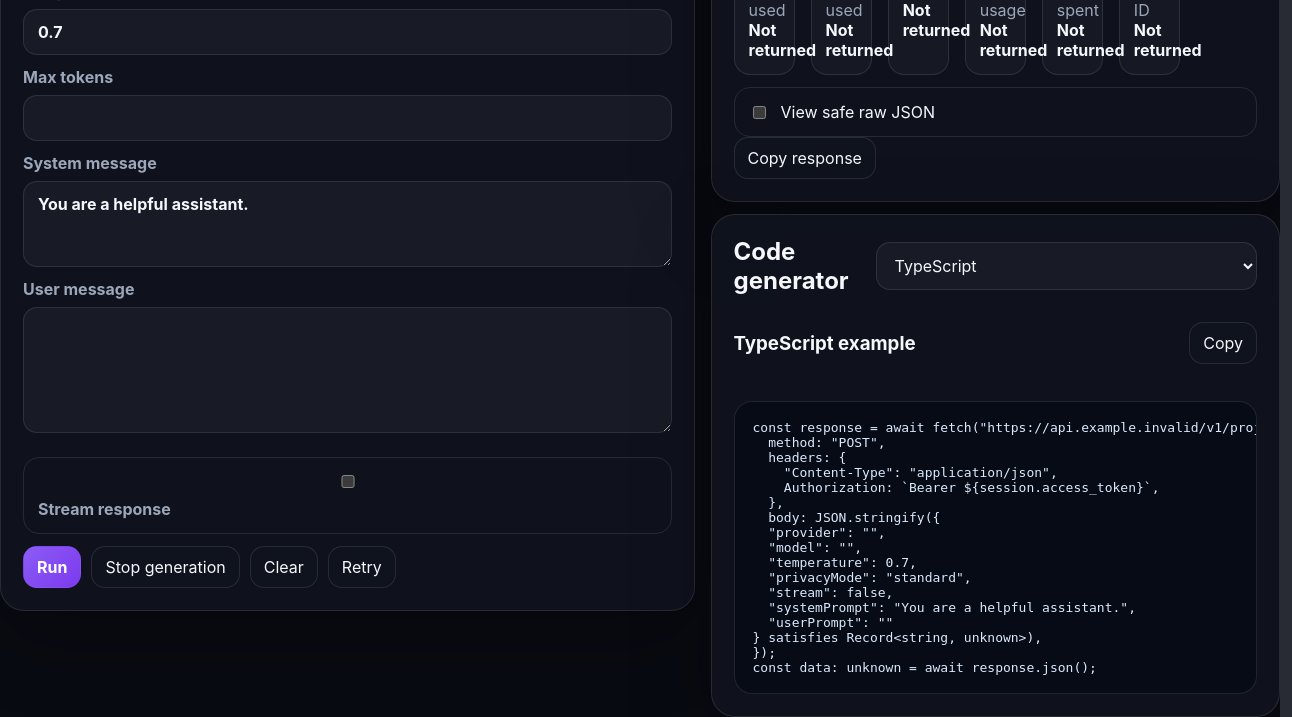
Test: DeveloperPlayground › runs platform inference and shows response metrics
(page scrolled)
Type "Hello" into the text box labelled "User message". click: {"x": 347, "y": 370}
box: left=23, top=307, right=672, bottom=433
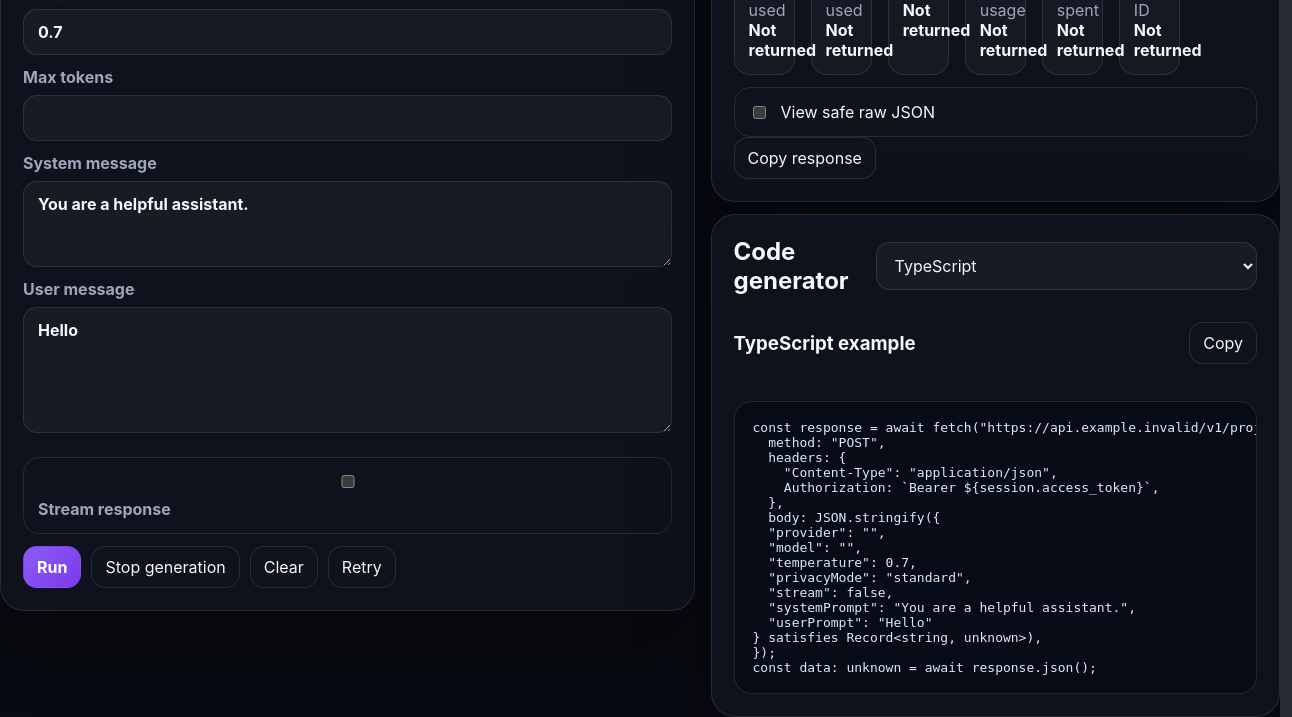
Click the button "Run". click: {"x": 52, "y": 567}
box: left=23, top=546, right=81, bottom=588
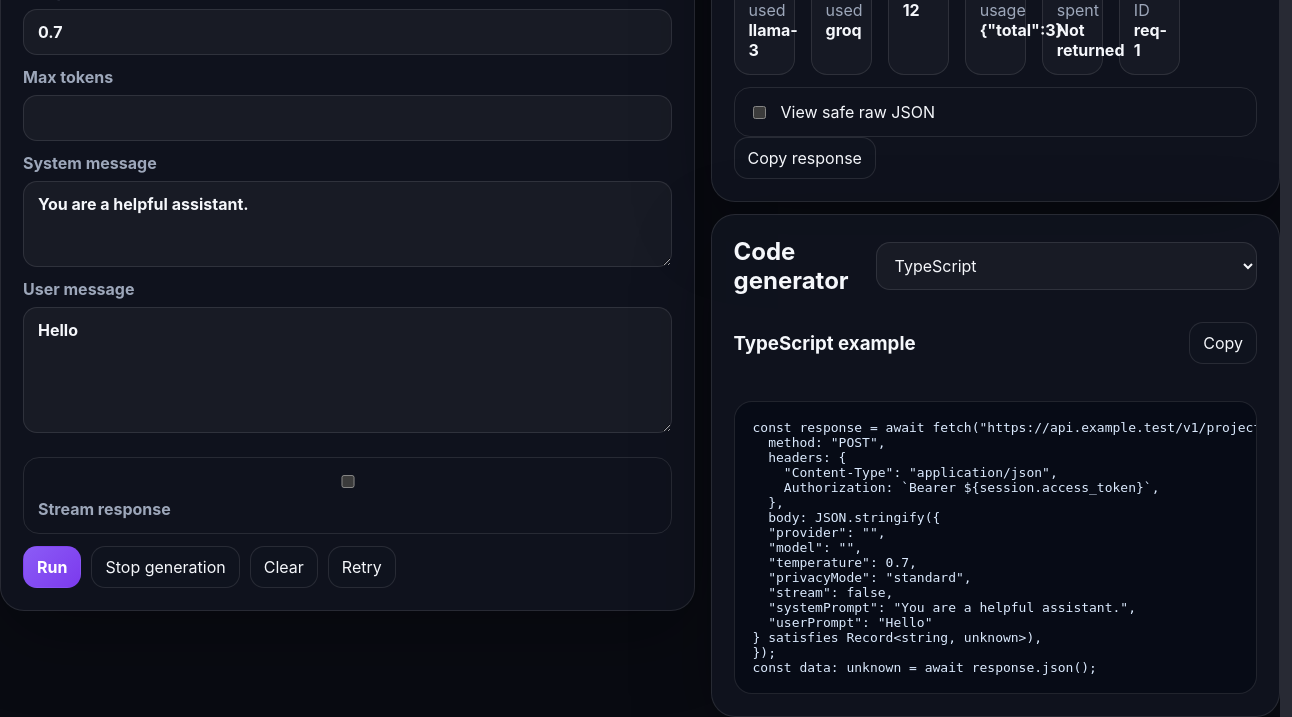
Expected: the element named "Playground response metrics" shows "llama-3", left=748, top=20, right=798, bottom=60
Expected: the text "req-1" is shown, left=1134, top=20, right=1165, bottom=60
